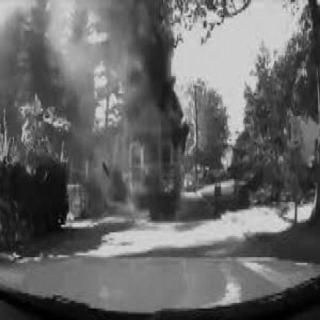Smoke: (86, 0, 192, 139)
